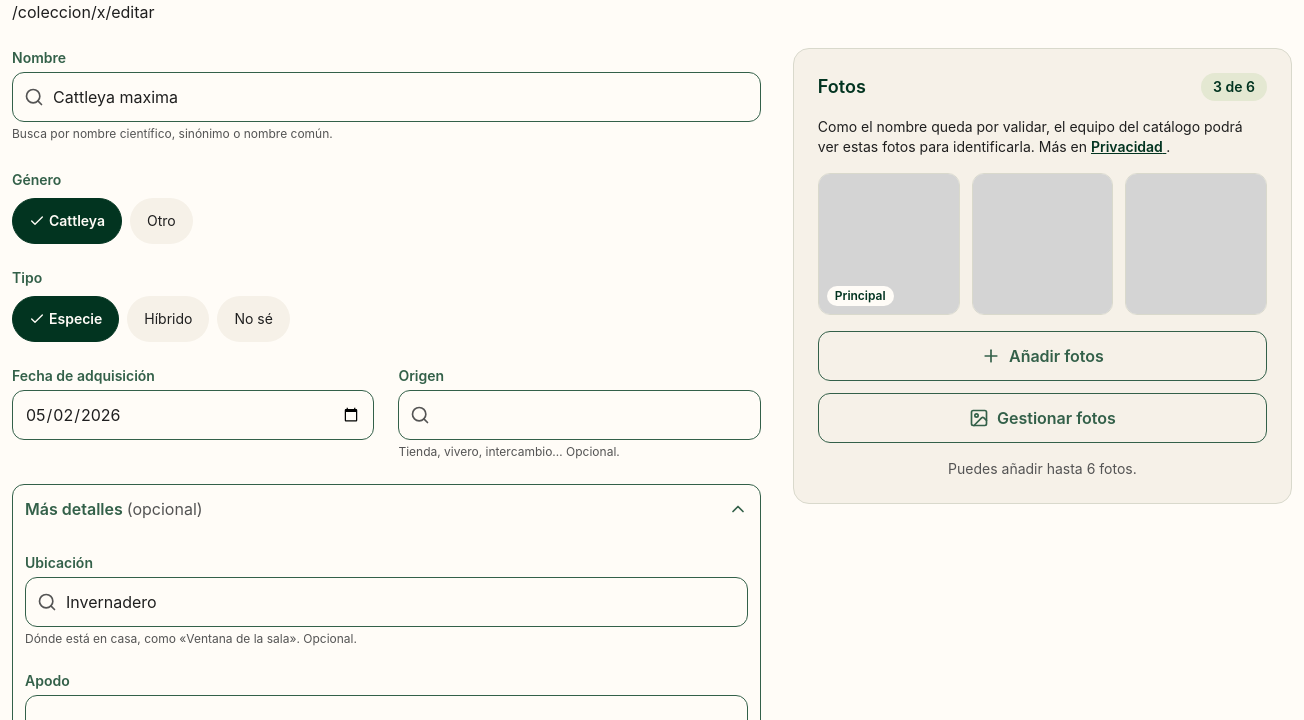
Scenario: EditPlantForm › gestionar fotos: hacer principal, mover y quitar solo cambian el formulario hasta guardar
This screenshot has width=1304, height=720.
Later steps or results of the test are not shown.
Expected: the text "3 de 6" is shown, [1201,73,1267,101]
Click the button "Gestionar fotos" at (1042, 418), box [818,393,1267,443]
(page scrolled)
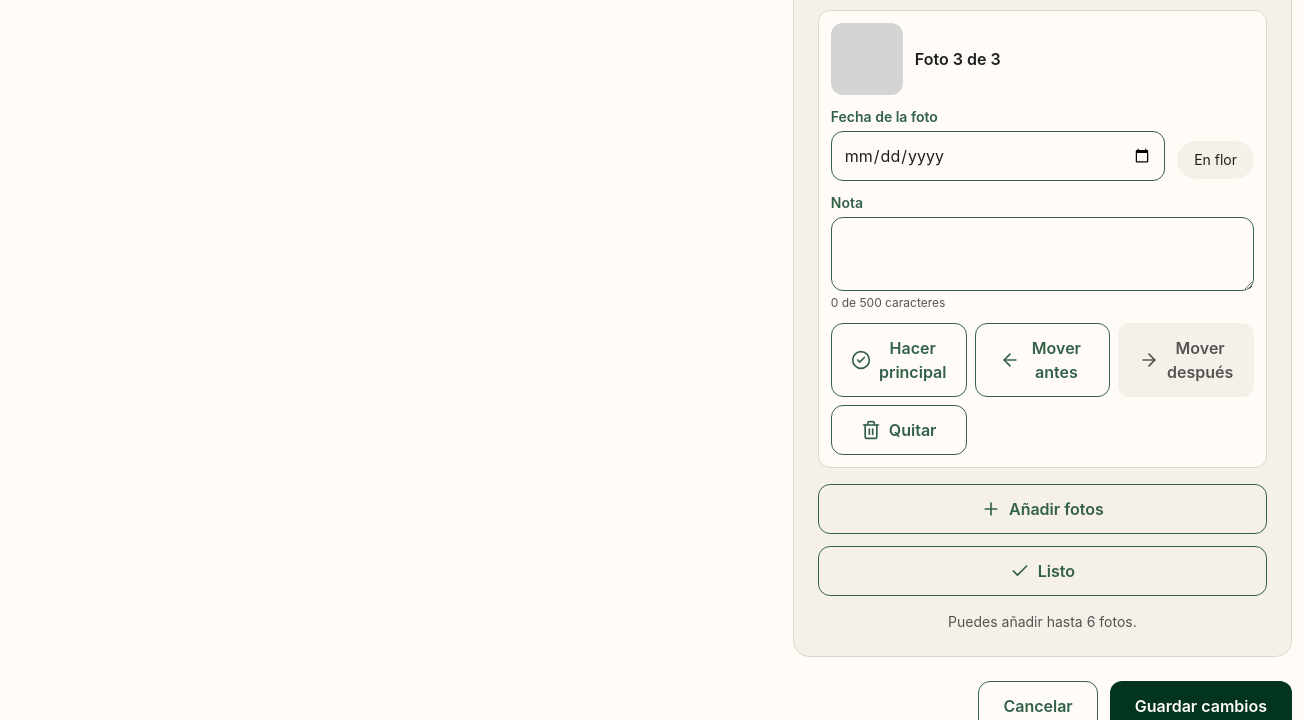
Click the button "Hacer principal" at (899, 360), box [831,323,966,397]
(page scrolled)
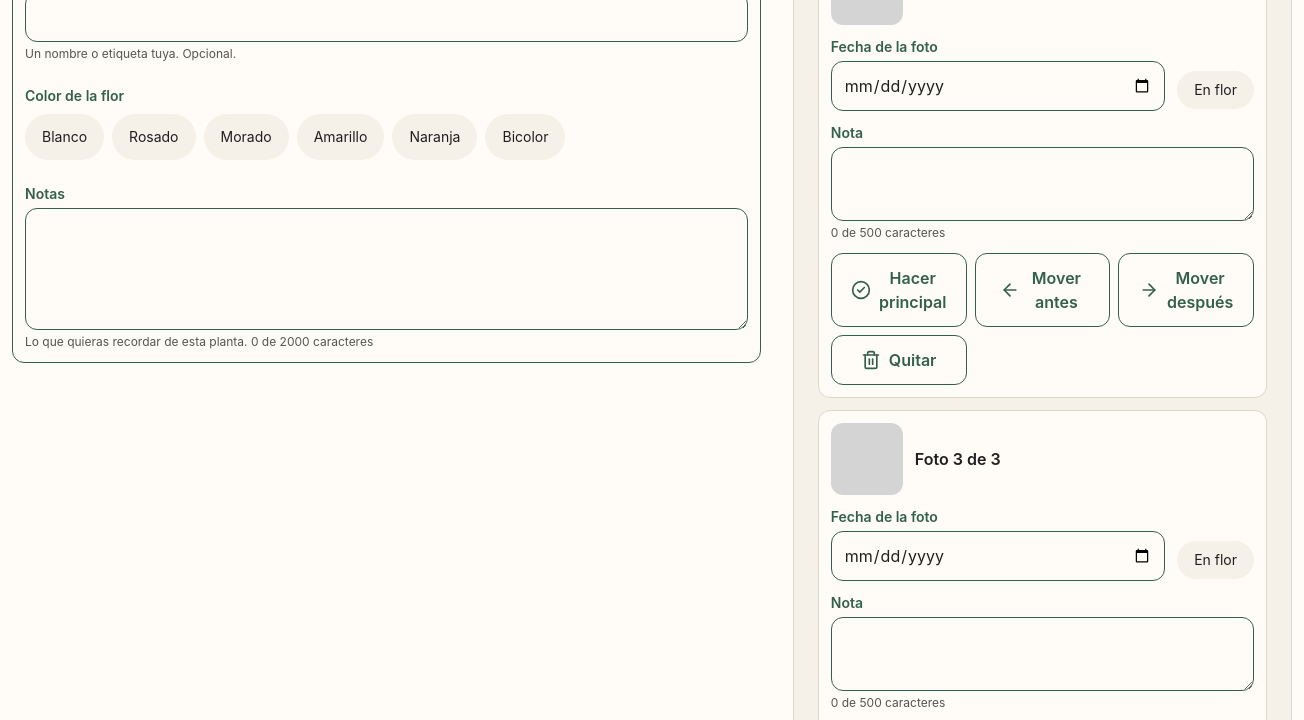
Click the button "Quitar" at (899, 360), box [831,335,966,385]
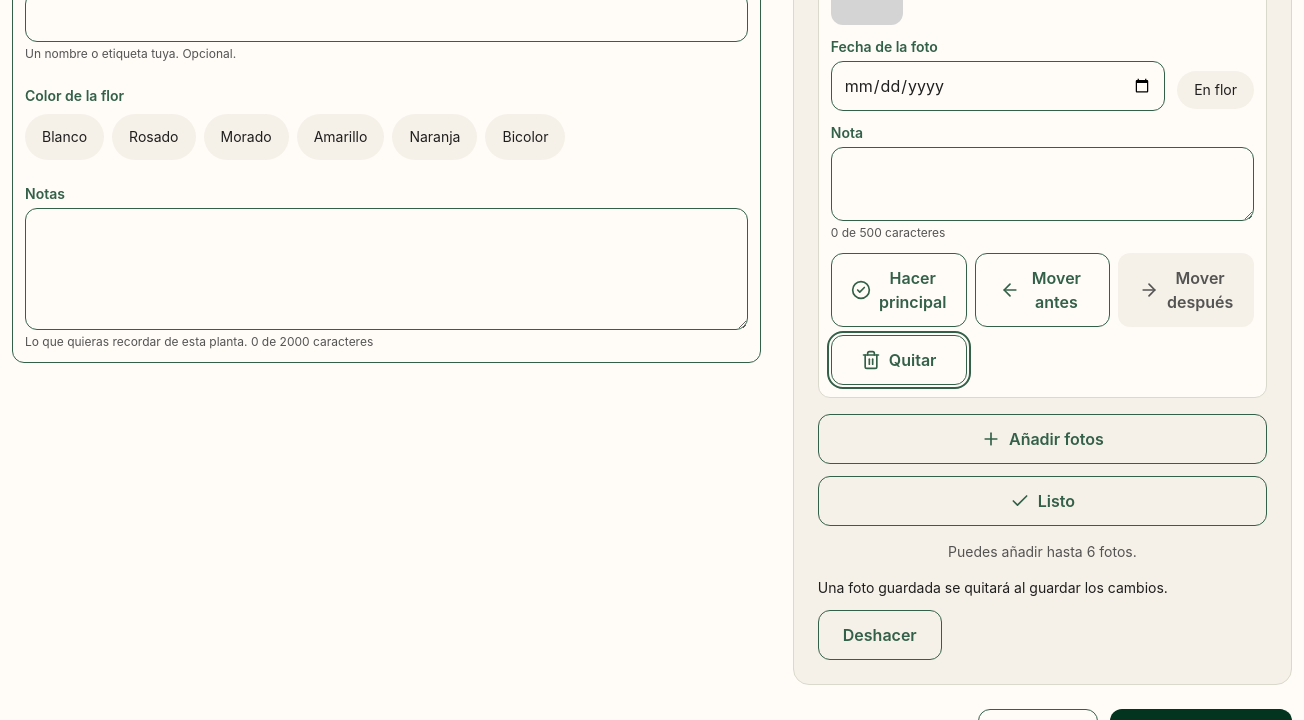
Now the text "Una foto guardada se quitará al guardar los cambios." is shown, box [818,578,1168,598]
